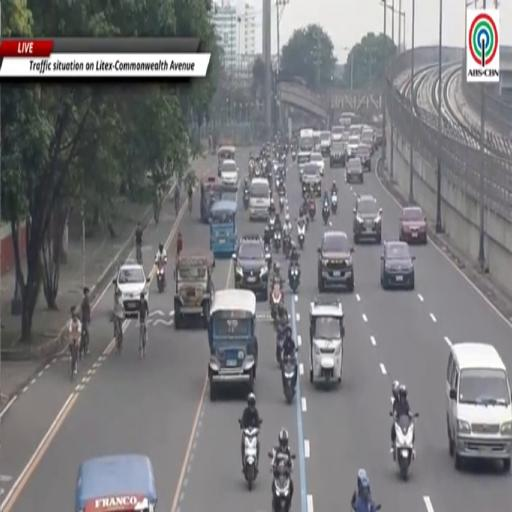car: (233, 235, 269, 299), (318, 230, 354, 292), (113, 261, 149, 316), (381, 242, 415, 290), (353, 195, 382, 244), (399, 206, 427, 244), (301, 164, 321, 197), (221, 159, 238, 190), (346, 157, 363, 184), (330, 140, 346, 167), (356, 144, 371, 171), (361, 127, 375, 154), (310, 152, 324, 175), (348, 135, 360, 157), (321, 131, 331, 156), (331, 125, 344, 142)
jeepney: (209, 290, 257, 399), (75, 455, 157, 511), (174, 249, 214, 329), (310, 298, 344, 383), (210, 201, 236, 257), (200, 172, 222, 222), (218, 146, 235, 178)
motorcycle: (390, 412, 418, 481), (271, 460, 291, 511), (243, 427, 259, 490), (282, 355, 297, 404), (270, 283, 284, 321), (276, 326, 285, 367), (289, 264, 300, 294), (156, 264, 165, 294), (297, 222, 306, 249), (283, 232, 291, 259), (264, 244, 272, 267), (322, 202, 330, 225), (274, 230, 281, 252), (308, 199, 315, 220), (243, 188, 249, 210), (331, 193, 337, 214), (269, 215, 275, 235), (249, 160, 255, 179), (279, 196, 284, 212), (291, 149, 297, 162), (276, 175, 281, 190), (255, 166, 261, 177), (373, 505, 381, 511)
